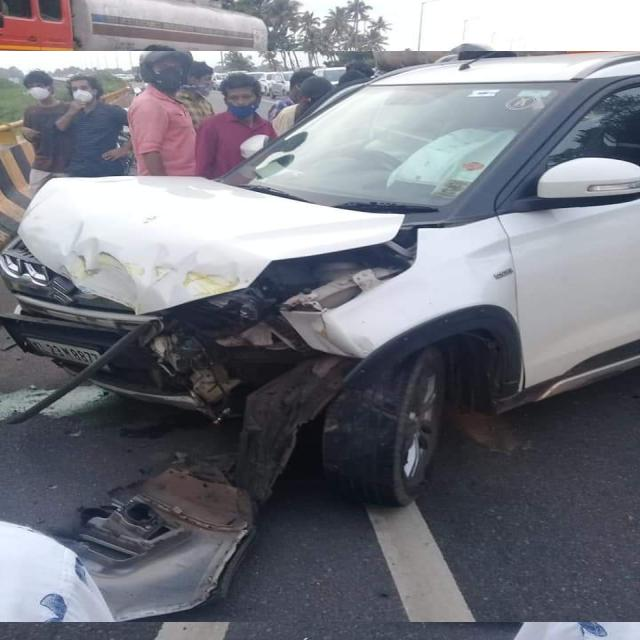accident: (0, 51, 640, 622)
